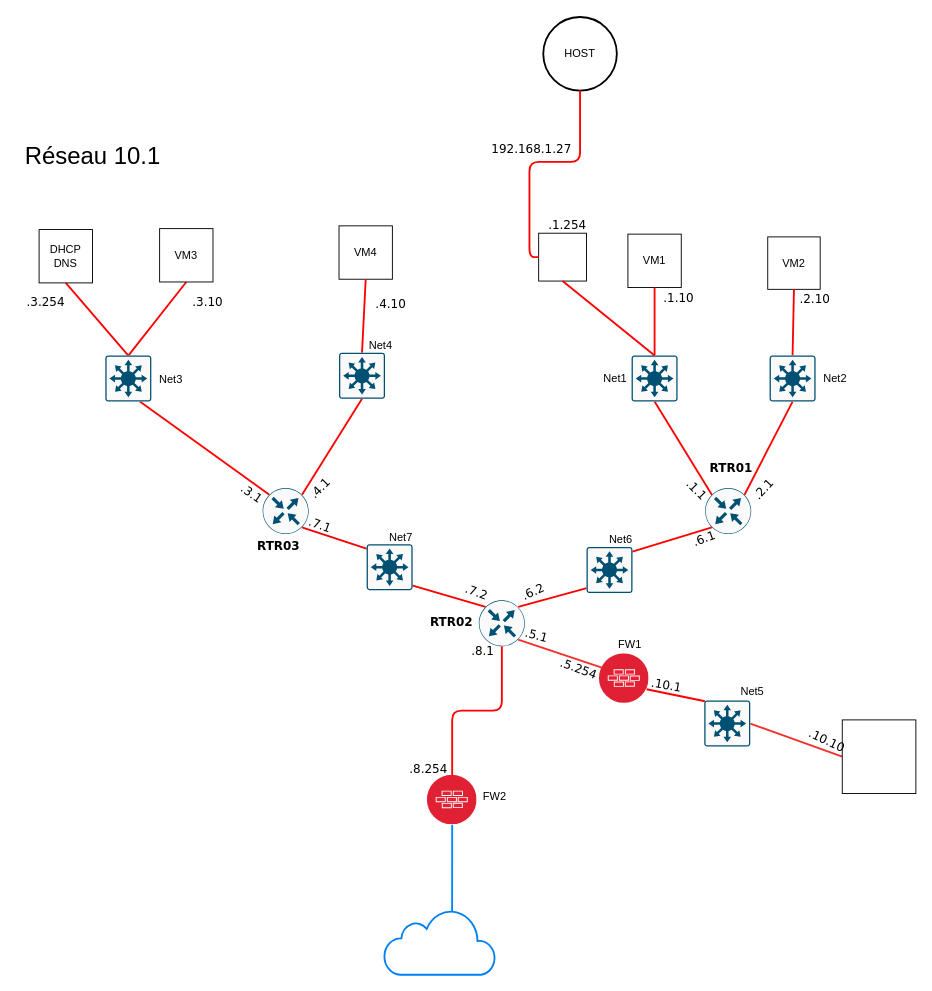
Some shapes in this 932 by 991 pixel diagram are drawn without their labels. The centre of each missing label's shape, as x and y in pixels:
Bastion: point 562,256
VM5 WebServer: point 878,756
